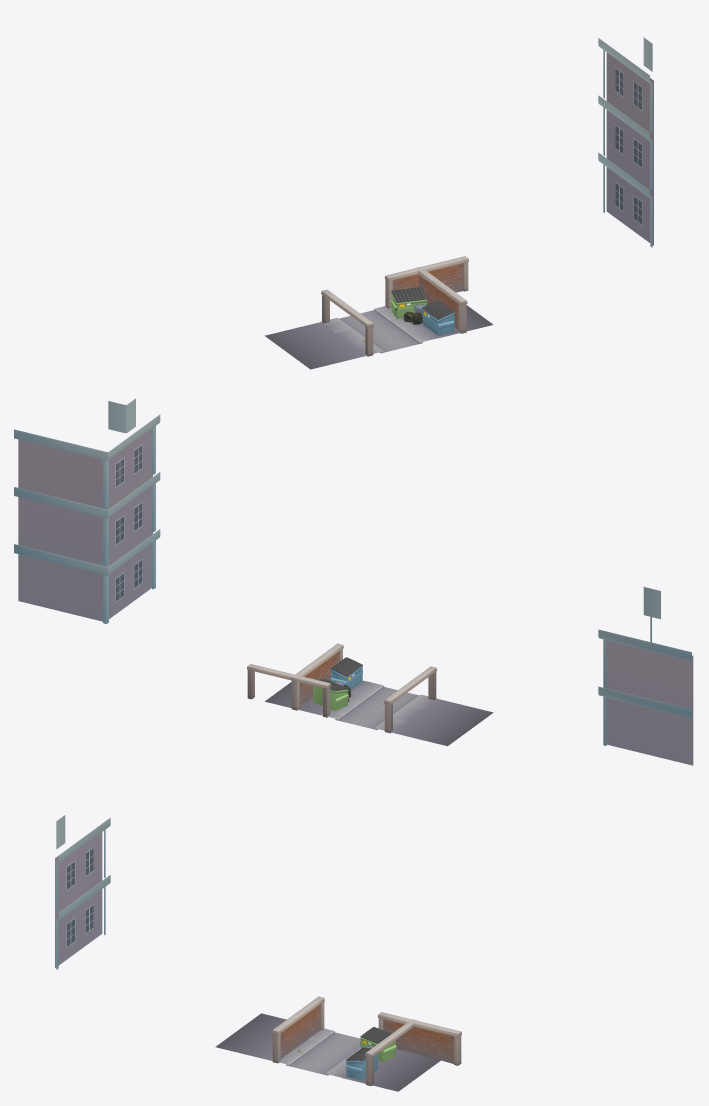
Rendered from UrbanDumpsters02.prefab.glb.
3 renders of one model, top to bottom at view 1: azimuth 30°, elevation 25°; view 2: azimuth 150°, elevation 25°; view 3: azimuth 330°, elevation 25°, orthographic.
Parts seen in each view (by area): view 1: FarBackBuilding01, UrbanDumpsters02, BrickWall (2), BrickWall, BrickWall (1), DumpsterBlue, DumpsterGreen; view 2: FarBackBuilding01, UrbanDumpsters02, BrickWall, BrickWall (2), BrickWall (1), DumpsterBlue, DumpsterGreen; view 3: FarBackBuilding01, UrbanDumpsters02, BrickWall (2), BrickWall (1), BrickWall, DumpsterGreen, DumpsterBlue.
Part boxes in pixels (left/top/right/bottom): FarBackBuilding01: left=598, top=37, right=653, bottom=247; UrbanDumpsters02: left=264, top=305, right=493, bottom=369; BrickWall (2): left=384, top=256, right=468, bottom=308; BrickWall: left=415, top=266, right=467, bottom=333; BrickWall (1): left=321, top=289, right=373, bottom=356; DumpsterBlue: left=422, top=300, right=454, bottom=335; DumpsterGreen: left=390, top=287, right=427, bottom=318; FarBackBuilding01: left=14, top=398, right=693, bottom=765; UrbanDumpsters02: left=265, top=680, right=493, bottom=746; BrickWall: left=291, top=643, right=343, bottom=710; BrickWall (2): left=247, top=664, right=330, bottom=717; BrickWall (1): left=384, top=666, right=437, bottom=733; DumpsterBlue: left=330, top=657, right=362, bottom=689; DumpsterGreen: left=313, top=679, right=348, bottom=710; FarBackBuilding01: left=55, top=815, right=110, bottom=969; UrbanDumpsters02: left=215, top=1013, right=440, bottom=1091; BrickWall (2): left=377, top=1012, right=461, bottom=1065; BrickWall (1): left=271, top=996, right=324, bottom=1063; BrickWall: left=365, top=1019, right=416, bottom=1086; DumpsterGreen: left=360, top=1027, right=396, bottom=1062; DumpsterBlue: left=346, top=1048, right=377, bottom=1080.
Bounding box in the file's own units: 76.34 × 26.74 × 10.17.
Materials: 5 (4 with a texture image).
